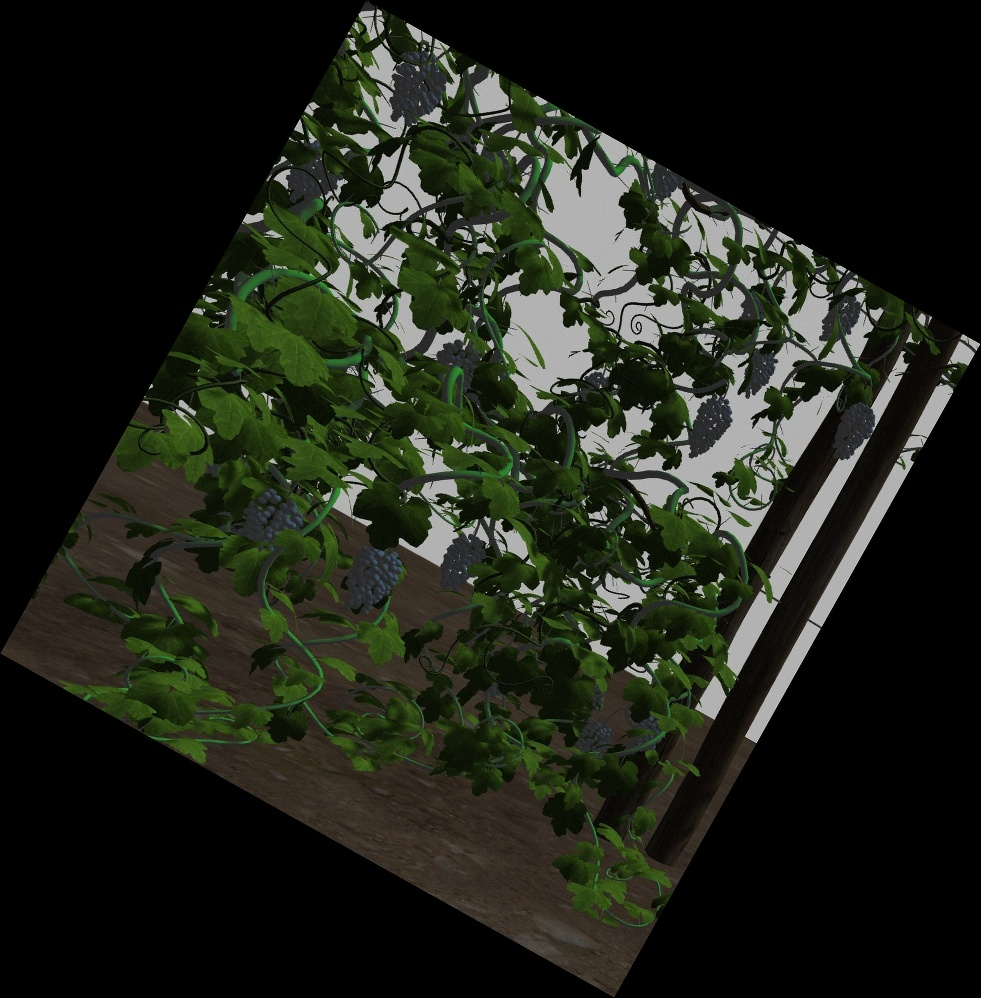grape: (390, 57, 442, 121), (347, 548, 394, 614), (292, 146, 335, 205), (247, 496, 296, 545), (691, 399, 725, 460), (443, 534, 480, 589), (836, 402, 869, 461), (823, 296, 855, 346), (742, 353, 772, 402), (439, 343, 477, 377), (579, 722, 606, 758), (646, 171, 678, 200), (634, 720, 661, 753)
